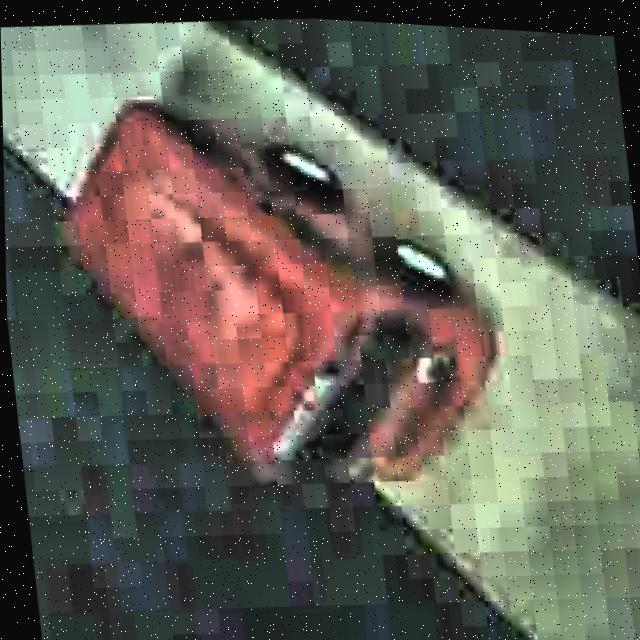bus: (44, 63, 524, 519)
